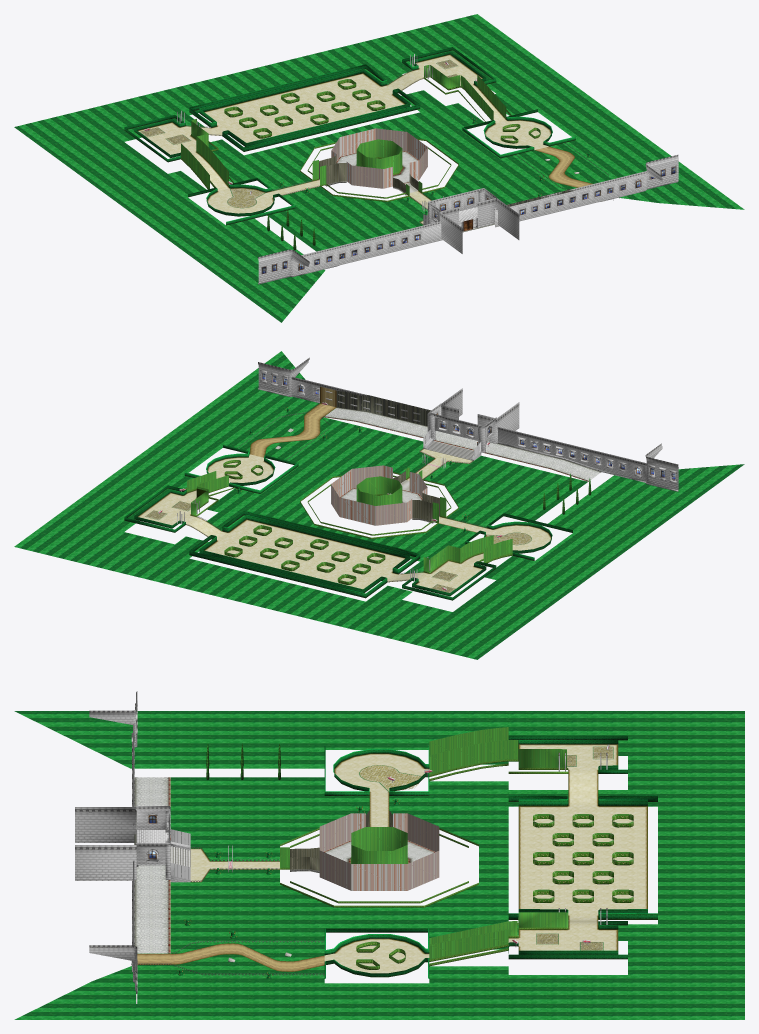
File: PeachGardens_road.glb
3 renders of one model, top to bottom at view 1: azimuth 30°, elevation 25°; view 2: azimuth 150°, elevation 25°; view 3: azimuth 270°, elevation 25°, orthographic. The views are drawn at different scales.
Parts seen in each view (by area): view 1: grass_grass, grass_grass.001, polygon7, polygon17, polygon30, polygon18, polygon72, polygon11, grass1_grass, polygon55, polygon6; view 2: grass_grass, grass_grass.001, polygon7, polygon30, polygon17, polygon18, polygon72, polygon6, polygon11, polygon37, grass1_grass, polygon55; view 3: grass_grass, grass_grass.001, polygon7, polygon30, polygon17, polygon72, polygon11, polygon6, grass1_grass, polygon18, polygon37, polygon55.
Part boxes in pixels (left/top/right/bottom): grass_grass: left=14, top=14, right=744, bottom=322; grass_grass.001: left=124, top=47, right=616, bottom=225; polygon7: left=139, top=56, right=549, bottom=223; polygon17: left=258, top=155, right=678, bottom=283; polygon30: left=331, top=128, right=574, bottom=232; polygon18: left=177, top=54, right=678, bottom=284; polygon72: left=138, top=54, right=579, bottom=224; polygon11: left=224, top=76, right=537, bottom=250; grass1_grass: left=141, top=60, right=617, bottom=214; polygon55: left=319, top=156, right=579, bottom=196; polygon6: left=535, top=146, right=593, bottom=187; grass_grass: left=14, top=351, right=744, bottom=659; grass_grass.001: left=124, top=408, right=572, bottom=600; polygon7: left=140, top=449, right=549, bottom=592; polygon30: left=324, top=390, right=601, bottom=525; polygon17: left=258, top=357, right=678, bottom=490; polygon18: left=177, top=370, right=678, bottom=581; polygon72: left=138, top=430, right=551, bottom=592; polygon6: left=249, top=386, right=336, bottom=457; polygon11: left=186, top=460, right=591, bottom=584; polygon37: left=158, top=402, right=587, bottom=591; grass1_grass: left=146, top=407, right=530, bottom=592; polygon55: left=275, top=428, right=439, bottom=523; grass_grass: left=14, top=711, right=744, bottom=1019; grass_grass.001: left=178, top=727, right=657, bottom=979; polygon7: left=190, top=745, right=644, bottom=973; polygon30: left=134, top=777, right=439, bottom=953; polygon17: left=75, top=691, right=190, bottom=982; polygon72: left=170, top=744, right=647, bottom=962; polygon11: left=206, top=740, right=633, bottom=969; polygon6: left=137, top=943, right=324, bottom=971; grass1_grass: left=177, top=747, right=612, bottom=977; polygon18: left=131, top=701, right=607, bottom=1003; polygon37: left=131, top=744, right=609, bottom=975; polygon55: left=228, top=810, right=392, bottom=961.
Size of the model in its own units: 1058 by 70.55 by 1058.
12 materials, 12 textured.
